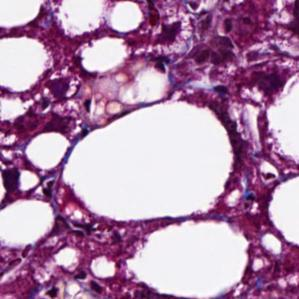inflammation: (139, 9, 197, 62)
